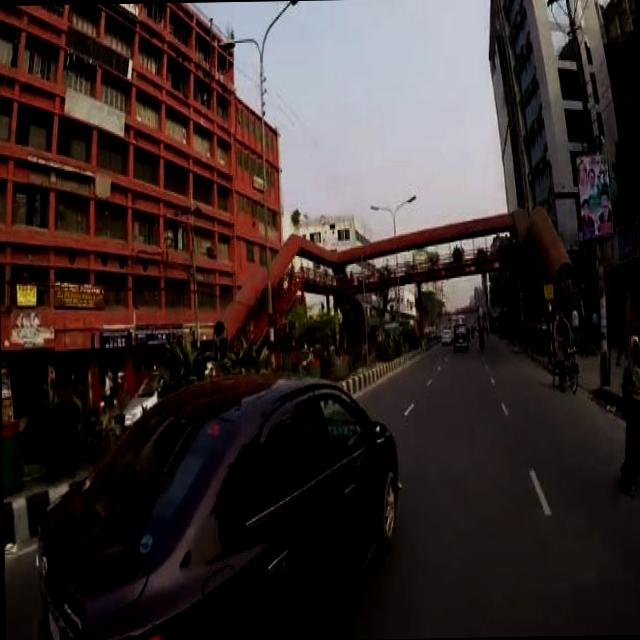car: (31, 364, 403, 640), (443, 324, 454, 338)
motorcycle: (547, 313, 580, 389)
truck: (454, 320, 469, 345)
